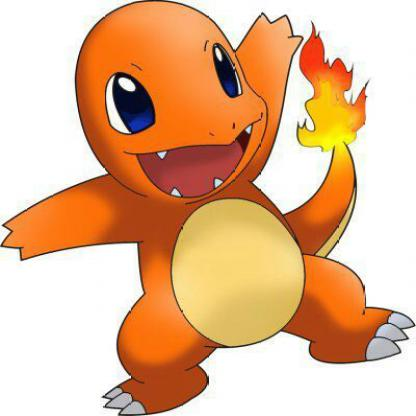Charmander: (11, 1, 416, 416)
